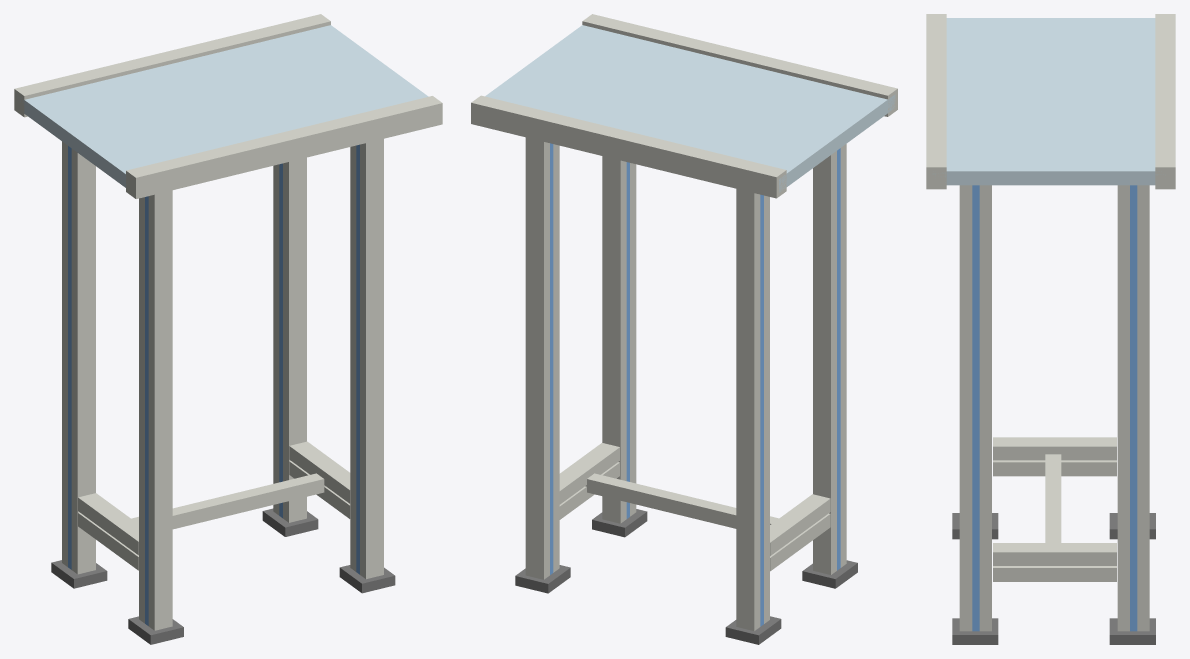
File: feeding.glb
3 renders of one model, left to right at view 1: azimuth 30°, elevation 25°; view 2: azimuth 150°, elevation 25°; view 3: azimuth 270°, elevation 25°, orthographic. The views are drawn at different scales.
Visible parts, largest first — view 1: 立方体_7, 立方体, 立方体_26, 立方体_2, 立方体_28, 立方体_12, 立方体_11, 立方体_5, 立方体_1, 立方体_27, 立方体_6, 立方体_29 (+4 smaller); view 2: 立方体_7, 立方体_28, 立方体_2, 立方体, 立方体_26, 立方体_11, 立方体_12, 立方体_5, 立方体_1, 立方体_27, 立方体_6, 立方体_3 (+4 smaller); view 3: 立方体_7, 立方体_26, 立方体_28, 立方体_11, 立方体_12, 立方体_1, 立方体_27, 立方体_31, 立方体_6, 立方体_5, 立方体_29, 立方体_30 (+2 smaller).
Boxes of the visible parts, x1=… form: 立方体_7: x1=17, y1=25, x2=428, y2=187; 立方体: x1=139, y1=190, x2=172, y2=630; 立方体_26: x1=350, y1=139, x2=383, y2=579; 立方体_2: x1=62, y1=141, x2=95, y2=574; 立方体_28: x1=273, y1=157, x2=306, y2=522; 立方体_12: x1=126, y1=96, x2=442, y2=198; 立方体_11: x1=14, y1=14, x2=330, y2=117; 立方体_5: x1=131, y1=473, x2=325, y2=529; 立方体_1: x1=78, y1=493, x2=138, y2=555; 立方体_27: x1=289, y1=441, x2=350, y2=503; 立方体_6: x1=78, y1=512, x2=138, y2=570; 立方体_29: x1=262, y1=508, x2=318, y2=536; 立方体_7: x1=485, y1=25, x2=895, y2=192; 立方体_28: x1=525, y1=137, x2=559, y2=579; 立方体_2: x1=736, y1=189, x2=769, y2=631; 立方体: x1=813, y1=144, x2=846, y2=574; 立方体_26: x1=602, y1=156, x2=636, y2=523; 立方体_11: x1=471, y1=95, x2=786, y2=198; 立方体_12: x1=582, y1=14, x2=897, y2=116; 立方体_5: x1=585, y1=473, x2=778, y2=528; 立方体_1: x1=770, y1=494, x2=830, y2=555; 立方体_27: x1=559, y1=443, x2=619, y2=504; 立方体_6: x1=770, y1=513, x2=830, y2=571; 立方体_3: x1=725, y1=616, x2=781, y2=644; 立方体_7: x1=933, y1=18, x2=1165, y2=185; 立方体_26: x1=959, y1=185, x2=991, y2=631; 立方体_28: x1=1117, y1=185, x2=1149, y2=631; 立方体_11: x1=1155, y1=14, x2=1175, y2=189; 立方体_12: x1=926, y1=14, x2=946, y2=189; 立方体_1: x1=993, y1=437, x2=1116, y2=460; 立方体_27: x1=993, y1=543, x2=1116, y2=565; 立方体_31: x1=993, y1=566, x2=1116, y2=581; 立方体_6: x1=993, y1=460, x2=1116, y2=476; 立方体_5: x1=1045, y1=454, x2=1061, y2=542; 立方体_29: x1=1109, y1=618, x2=1155, y2=644; 立方体_30: x1=952, y1=618, x2=998, y2=644.
Bounding box in the file's own units: 0.2334 × 0.3514 × 0.1604.
